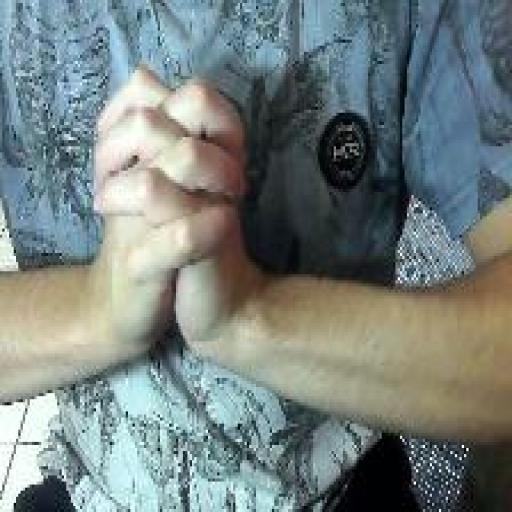Mi -snake-: (88, 63, 250, 364)
